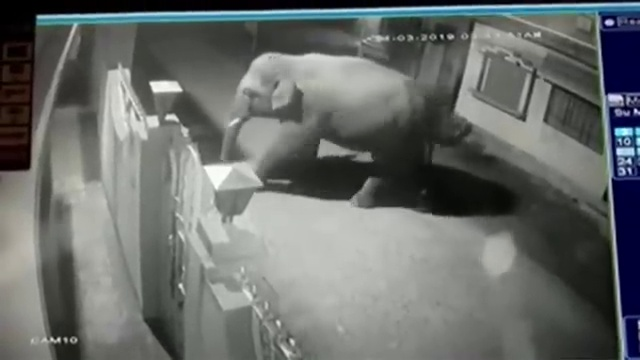Elephant: (220, 52, 435, 214)
